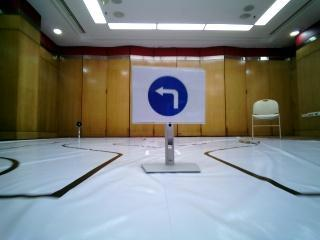left: (136, 71, 198, 120)
